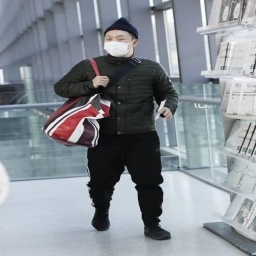correctlyWear: (104, 31, 139, 58)
